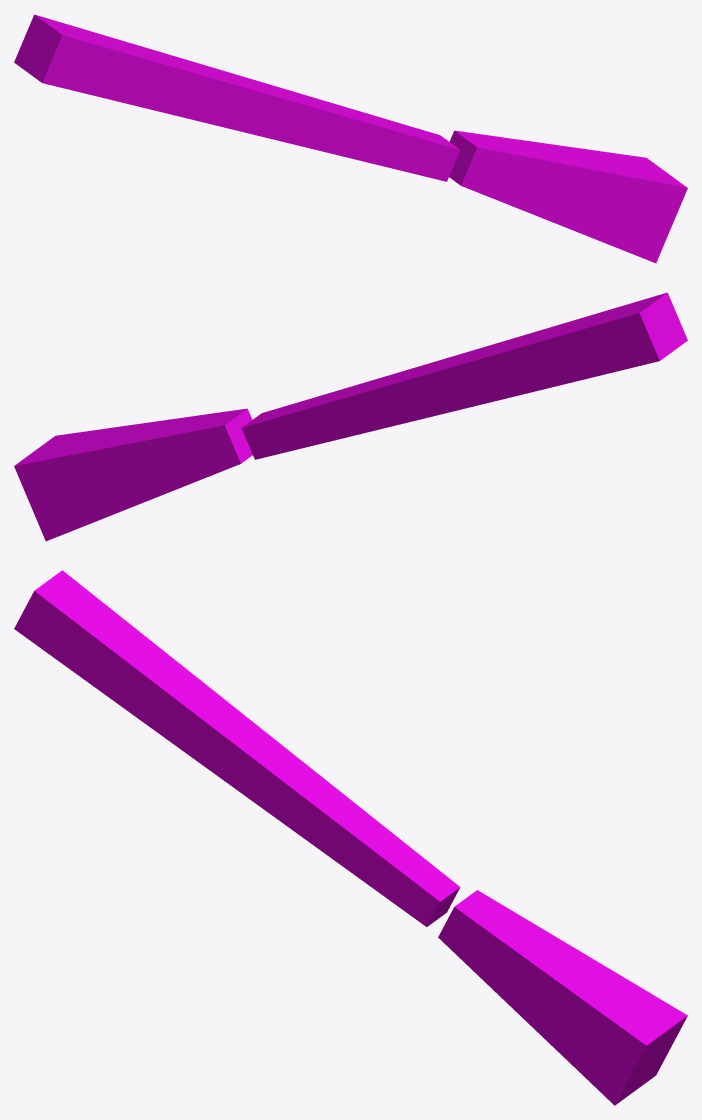
The model's file is SM_OverheadLightSinglePart04Collider.fbx.
3 views of the same model, one above another, from view 1: azimuth 30°, elevation 25°; view 2: azimuth 150°, elevation 25°; view 3: azimuth 330°, elevation 25° (orthographic).
Parts seen in each view (by area): view 1: OverheadLightSinglePart04Collision; view 2: OverheadLightSinglePart04Collision; view 3: OverheadLightSinglePart04Collision.
Boxes of the visible parts, box(x1,y1,x2,y2) form: OverheadLightSinglePart04Collision: box(14, 14, 687, 263); OverheadLightSinglePart04Collision: box(14, 292, 687, 541); OverheadLightSinglePart04Collision: box(14, 570, 687, 1105).
Size of the model in its own units: 53.7 by 29.45 by 6.02.
